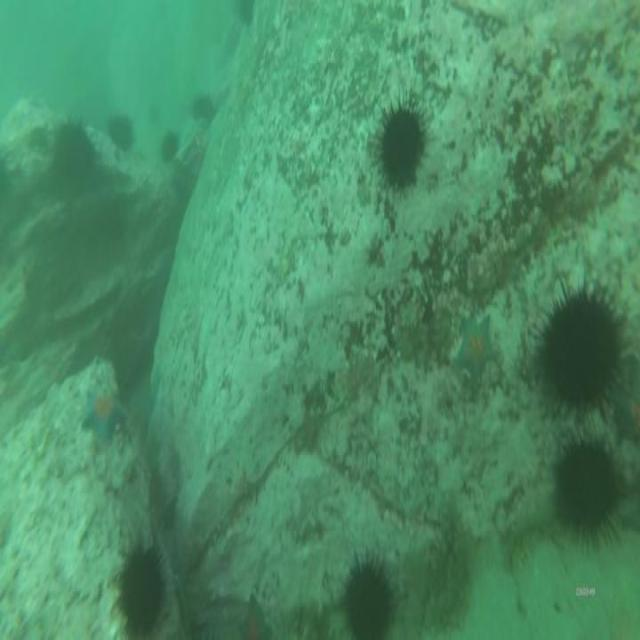echinus: (536, 294, 619, 401), (552, 441, 618, 532), (120, 545, 162, 640), (344, 562, 390, 640), (379, 108, 423, 186), (52, 126, 95, 188), (106, 111, 132, 150), (192, 93, 215, 123), (161, 128, 176, 160)
holothurian: (423, 488, 469, 624), (506, 512, 556, 578)
starfish: (454, 319, 494, 379), (81, 386, 123, 436), (238, 599, 272, 640)
